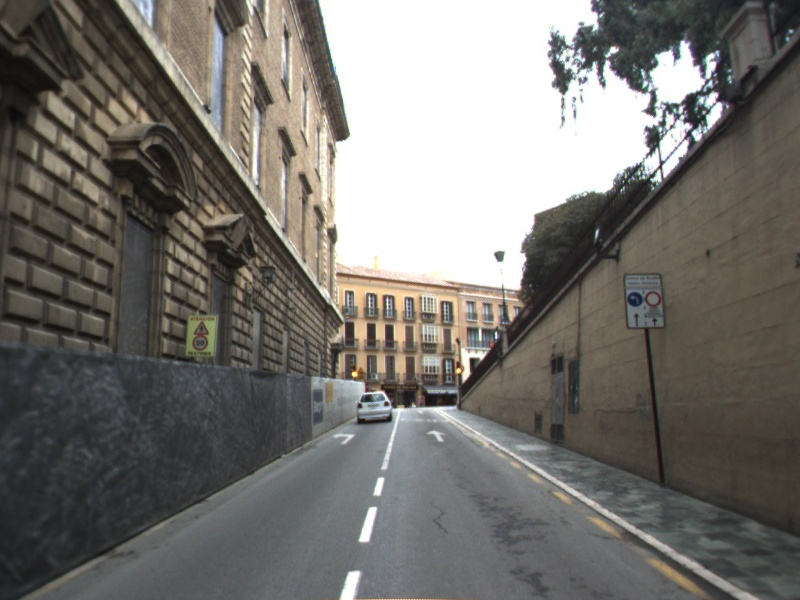LEFT: (330, 431, 358, 446)
STRAIGHT: (423, 428, 450, 444)
